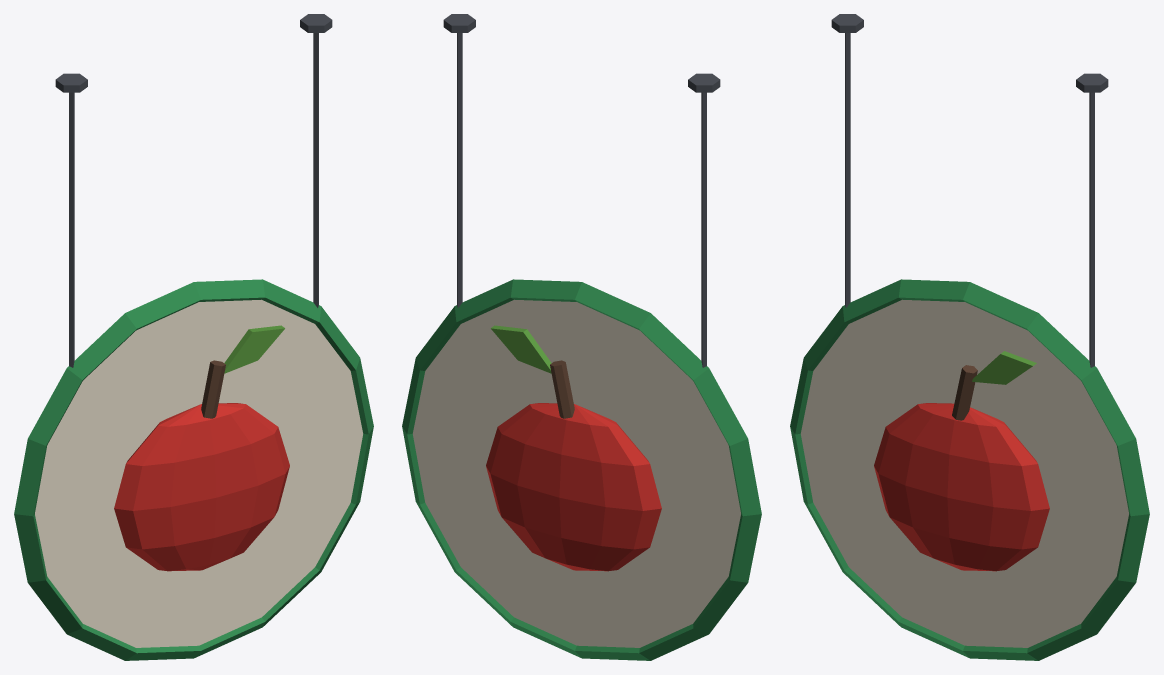
File: Hanging_Icon_Fruit.glb
3 renders of one model, left to right at view 1: azimuth 30°, elevation 25°; view 2: azimuth 150°, elevation 25°; view 3: azimuth 330°, elevation 25°, orthographic.
Visible parts, largest first — view 1: Hanging_Icon_Fruit; view 2: Hanging_Icon_Fruit; view 3: Hanging_Icon_Fruit.
Part boxes in pixels (x1,y1,x2,y2): Hanging_Icon_Fruit: (14,14,373,660); Hanging_Icon_Fruit: (402,14,761,660); Hanging_Icon_Fruit: (790,14,1149,660).
Size of the model in its own units: 1.03 by 1.66 by 0.224.
Materials: 1 (1 with a texture image).
